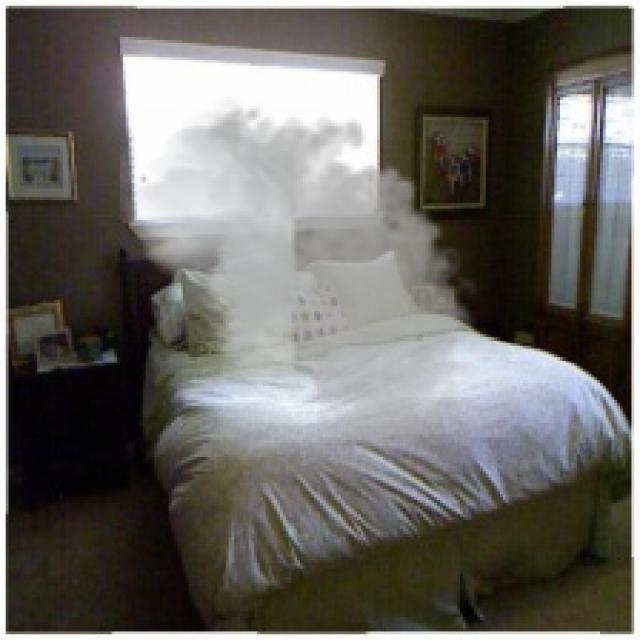Smoke: (120, 94, 489, 452)
